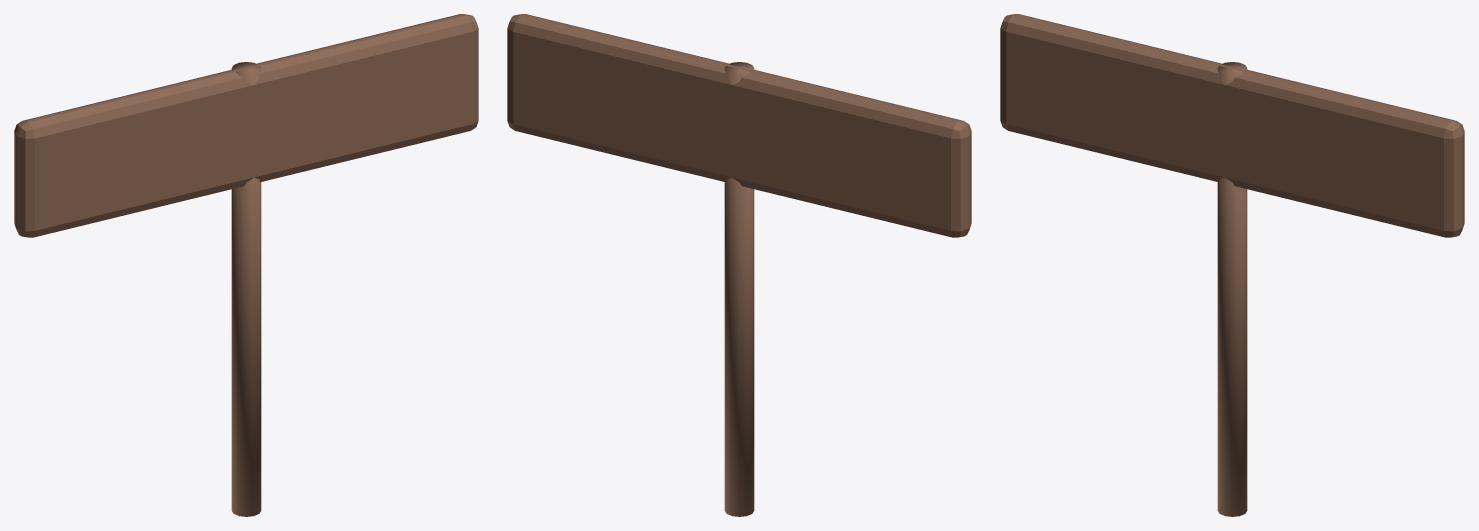
Rendered from Sign.fbx.
3 renders of one model, left to right at view 1: azimuth 30°, elevation 25°; view 2: azimuth 150°, elevation 25°; view 3: azimuth 330°, elevation 25°, orthographic.
Visible parts, largest first — view 1: DirectionBoard, Signpost; view 2: DirectionBoard, Signpost; view 3: DirectionBoard, Signpost.
Part boxes in pixels (left/top/right/bottom): DirectionBoard: left=14, top=14, right=478, bottom=237; Signpost: left=231, top=62, right=261, bottom=516; DirectionBoard: left=507, top=14, right=971, bottom=237; Signpost: left=724, top=62, right=754, bottom=516; DirectionBoard: left=1000, top=14, right=1464, bottom=237; Signpost: left=1217, top=62, right=1247, bottom=516.
Size of the model in its own units: 2.5 by 2.3 by 0.14.
